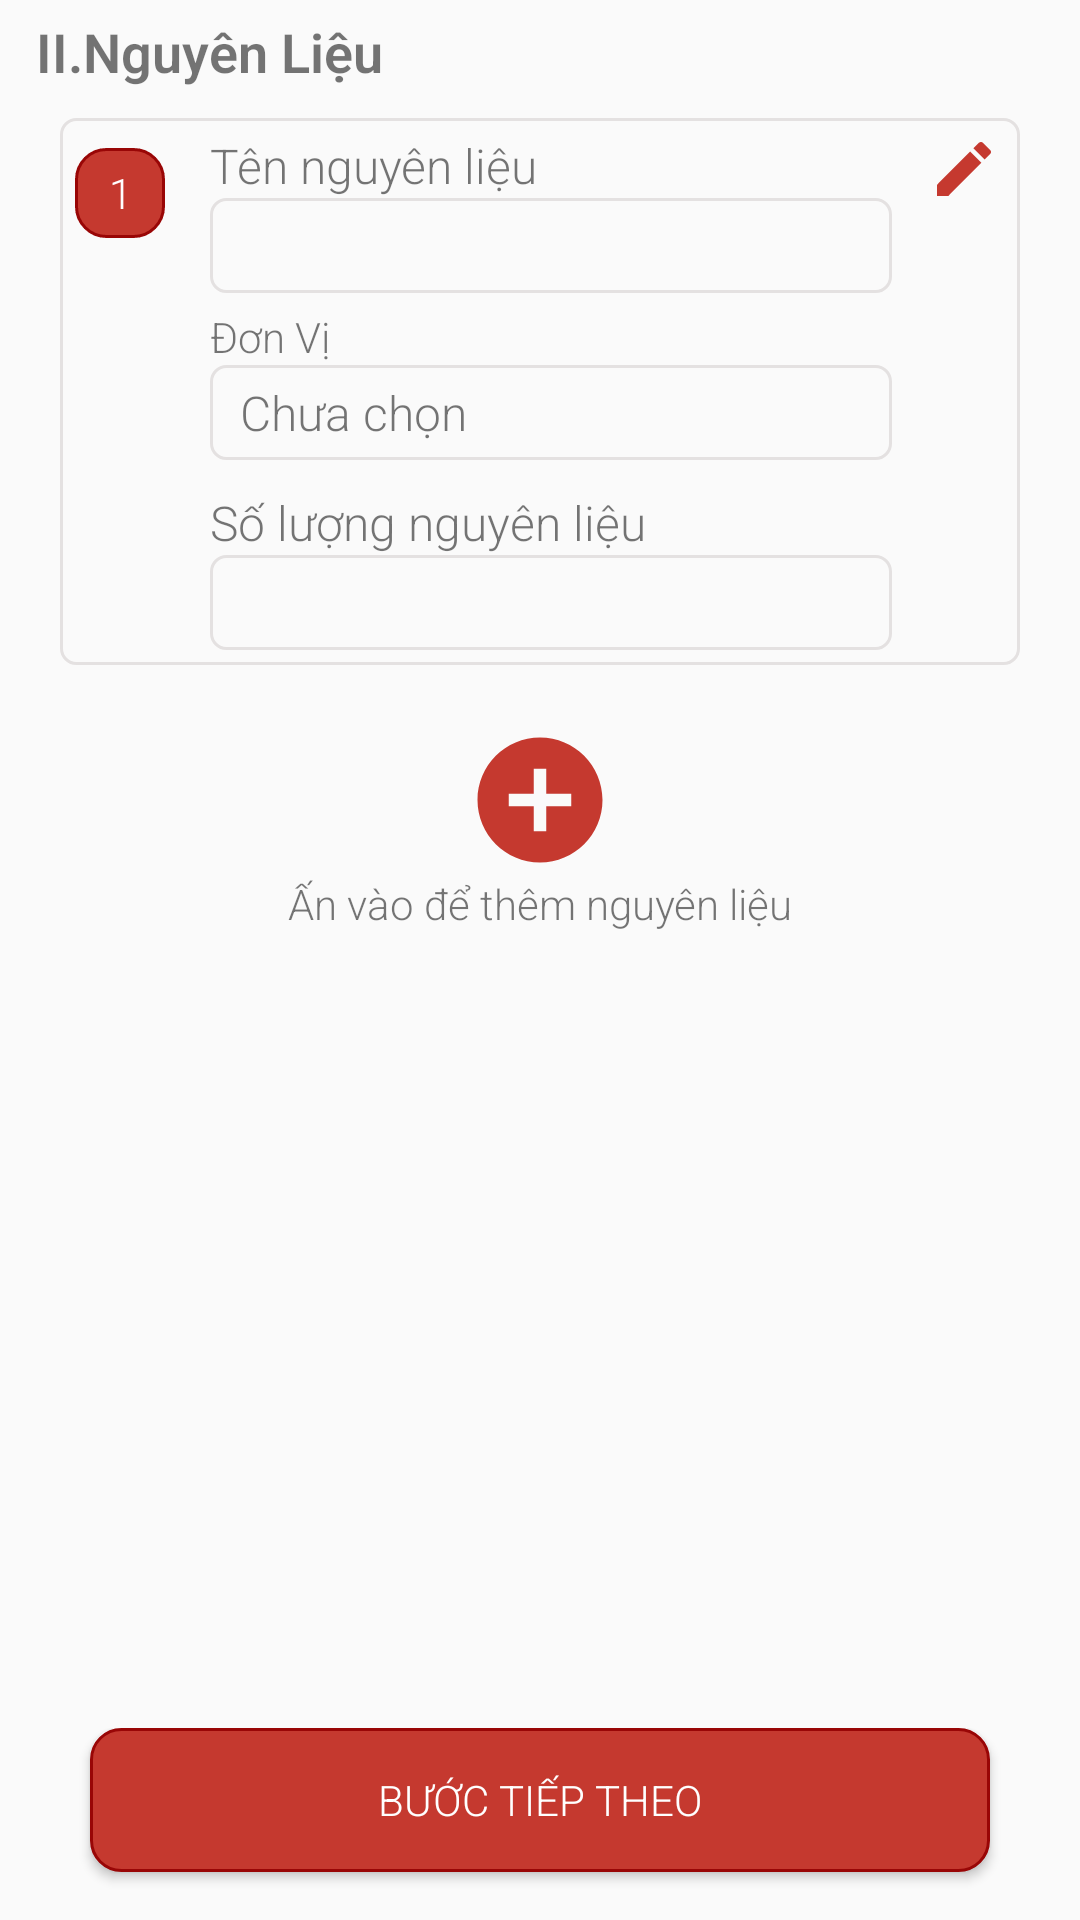

Screen size 1080w x 1920h. Icon name, then its center in pixels as point (x, y):
edit: point (964, 169)
